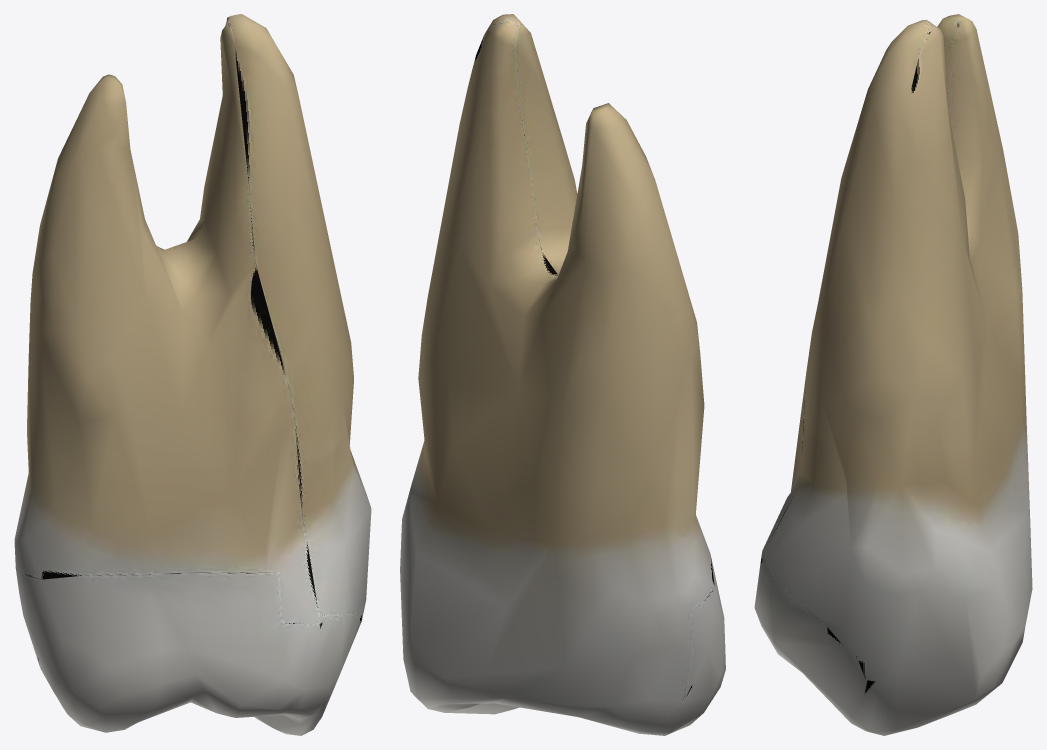
The model's file is maxillary_first_premolar.glb.
3 views of the same model, side by side, from view 1: azimuth 30°, elevation 25°; view 2: azimuth 150°, elevation 25°; view 3: azimuth 270°, elevation 25° (orthographic). The views are drawn at different scales.
Parts seen in each view (by area): view 1: Object_3; view 2: Object_3; view 3: Object_3.
Part boxes in pixels (x1,y1,x2,y2): Object_3: (14, 14, 371, 735); Object_3: (400, 14, 725, 735); Object_3: (754, 14, 1032, 735).
Size of the model in its own units: 0.3935 by 0.8604 by 0.3124.
1 material, 1 textured.
